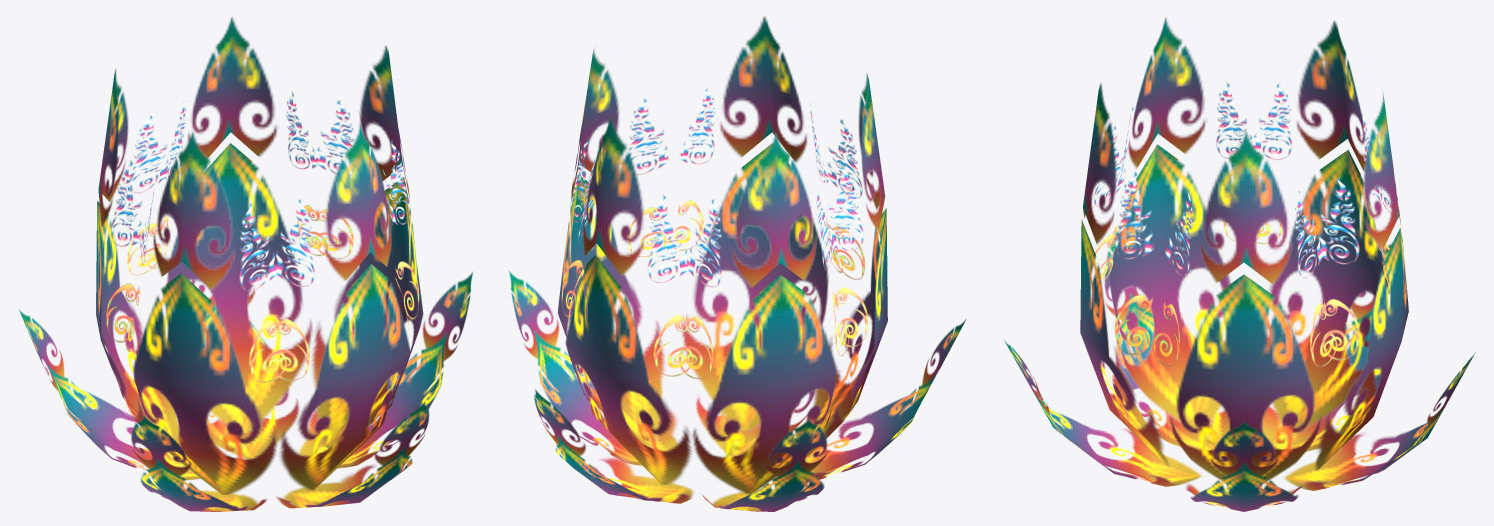
Rendered from Lotus 01.glb.
The picture shows the model from 3 angles, left to right: view 1: azimuth 30°, elevation 25°; view 2: azimuth 150°, elevation 25°; view 3: azimuth 270°, elevation 25°; orthographic projection.
Visible parts, largest first — view 1: Lotus_01; view 2: Lotus_01; view 3: Lotus_01.
Part boxes in pixels (<box>): Lotus_01: <box>18,16,472,511</box>; Lotus_01: <box>508,16,966,511</box>; Lotus_01: <box>1003,17,1475,511</box>.
Size of what is drawn, in the model's own units: 1.69 by 1.63 by 1.75.
1 material, 1 textured.
